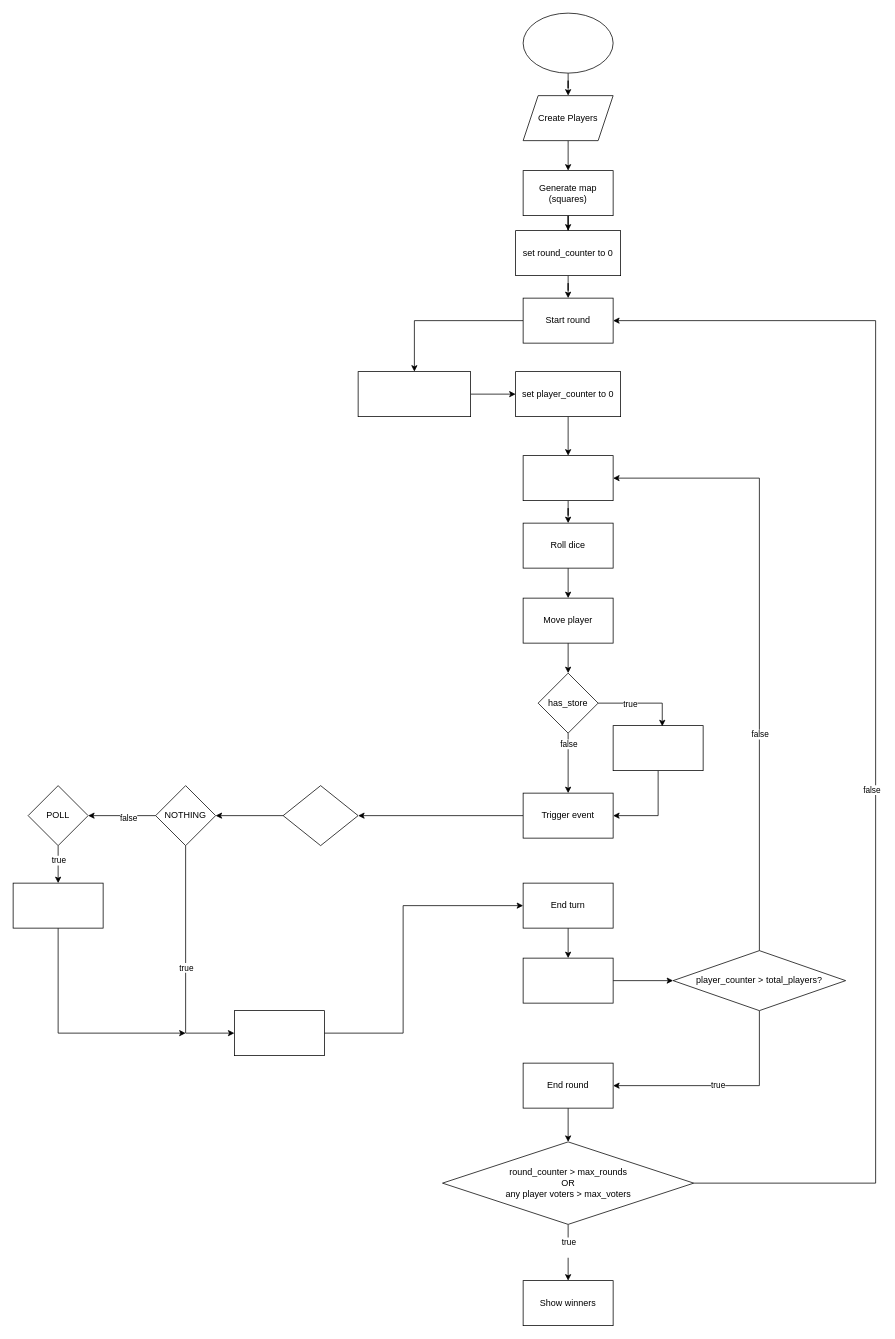
Image size: 895x1339. Some labels were removed from this diagram. The centre of each missing label's shape, as x and y in pixels:
End event: point 279,1033
event_type: point 320,815
Increment player_counter: point 567,980
Increment round_counter: point 414,394
Player turn: point 567,478
Poll logic?: point 57,905
Start: point 567,42
Trigger store: point 657,748
